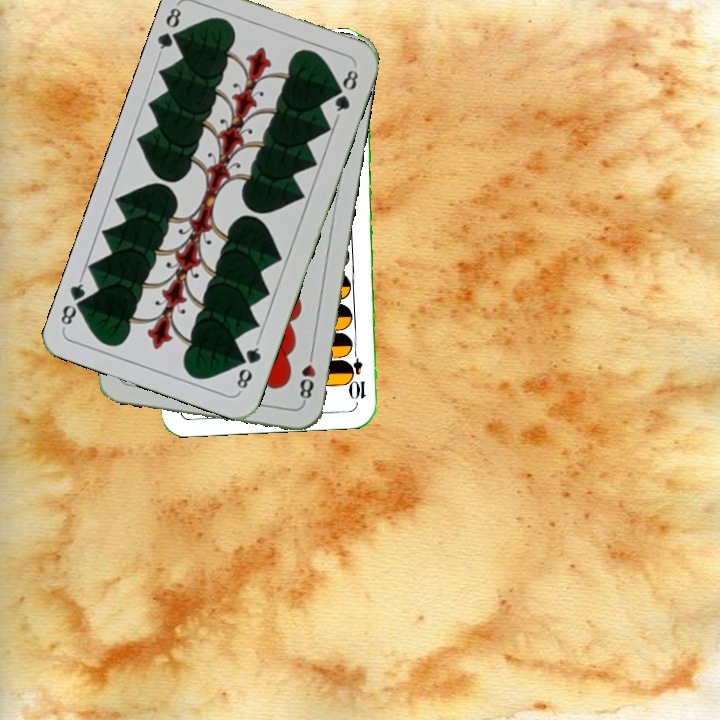E10: (347, 343, 368, 402)
G8: (153, 1, 187, 58), (232, 337, 264, 394)
H8: (295, 347, 318, 406)
